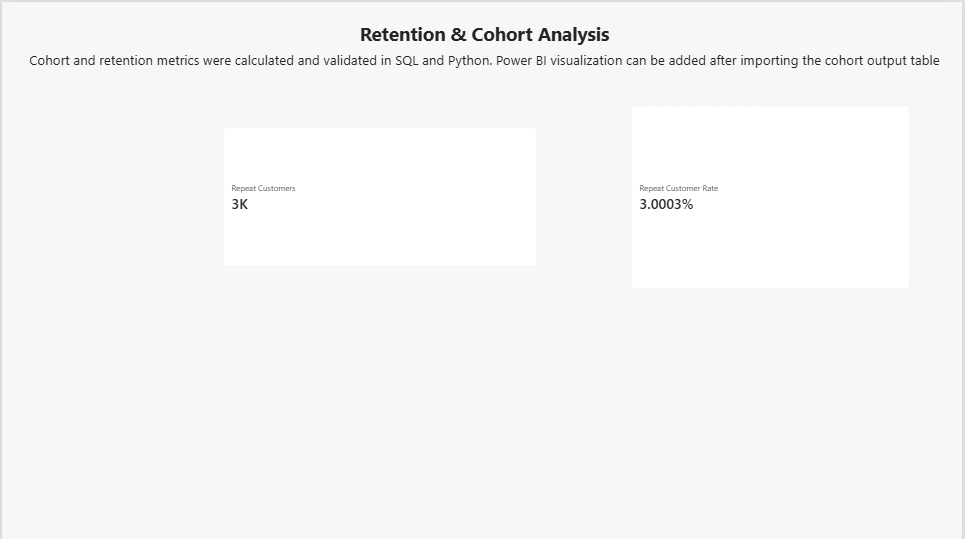

Layout of this report page (visuals, bound fields, positions):
{"tool":"powerbi","page":{"name":"Retention & Cohort","canvas":[1920,1080],"ordinal":3},"visuals":[{"type":"textbox","box":[10,38,1910,58],"z":0},{"type":"textbox","box":[10,96,1910,50],"z":1},{"type":"cardVisual","fields":{"Data":["DimCustomers.Repeat Customer Rate"]},"box":[1258,206,558,368],"z":4},{"type":"cardVisual","fields":{"Data":["DimCustomers.Repeat Customers"]},"box":[442,250,628,280],"z":5}]}

Visuals, with their boxes in screenshot pixels (x1, y1, x2, y2), scaled from the page's 1920x1080 canvas onto the 965x539 screenshot:
textbox: <box>5,19,964,48</box>
textbox: <box>5,48,964,73</box>
cardVisual - DimCustomers.Repeat Customer Rate: <box>632,103,913,286</box>
cardVisual - DimCustomers.Repeat Customers: <box>222,125,538,265</box>
